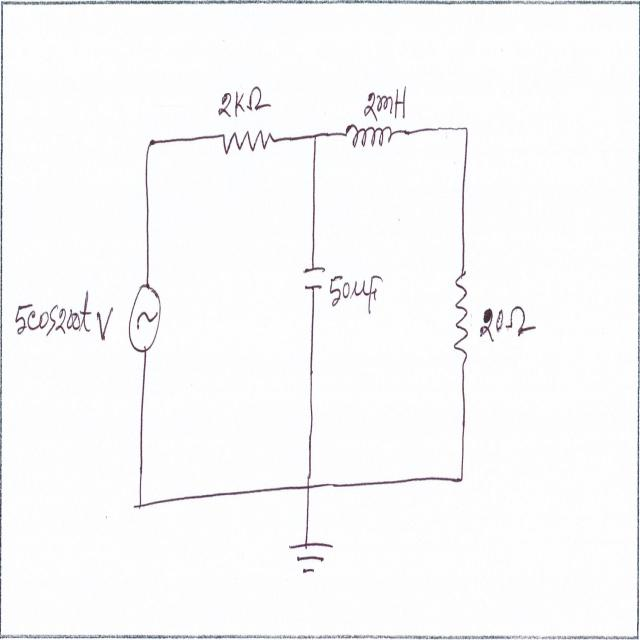ac_current: (126, 282, 162, 359)
capacitor: (303, 259, 328, 296)
ground: (287, 532, 336, 582)
inductor: (343, 116, 395, 158)
resistor: (220, 121, 275, 160), (452, 265, 472, 366)
